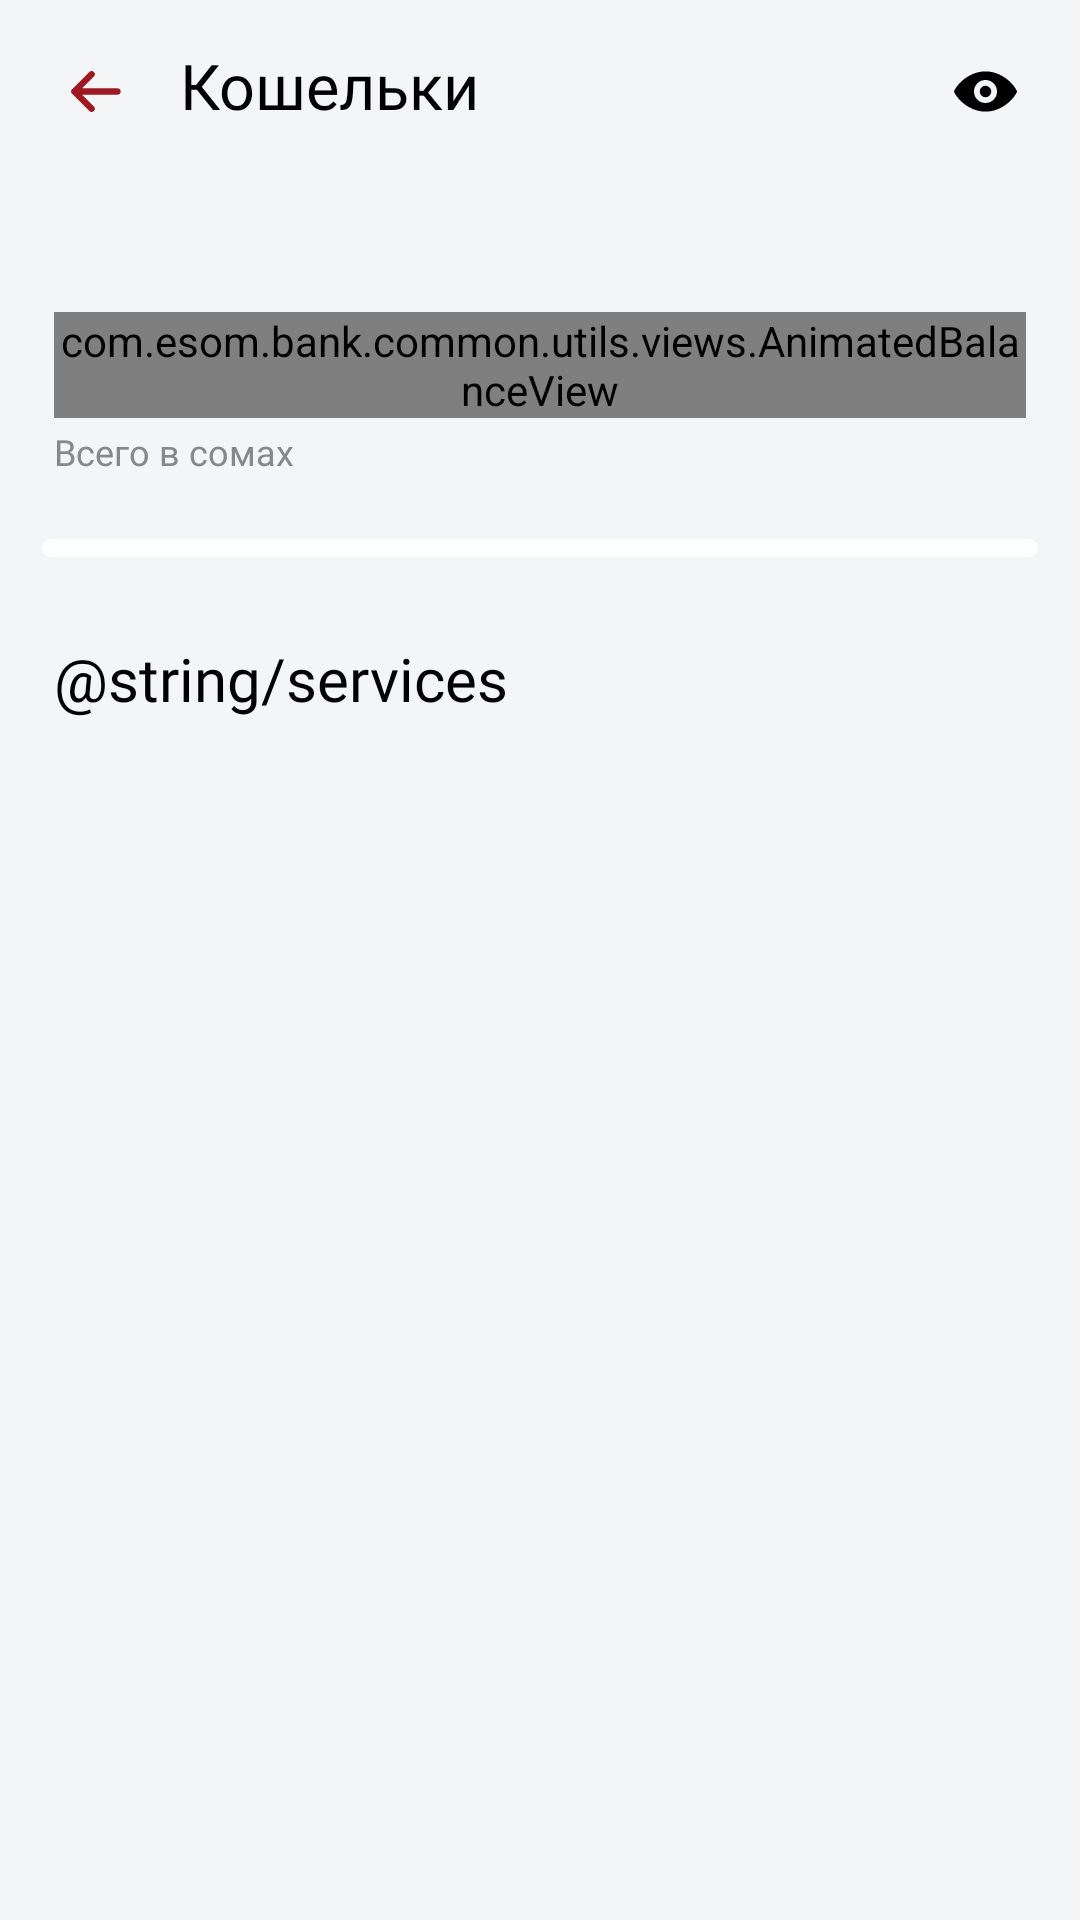

Screen size 1080*1920. Icon name, then its center in pixels as [x,y]:
arrow left: [96,91]
eye open: [985,91]
